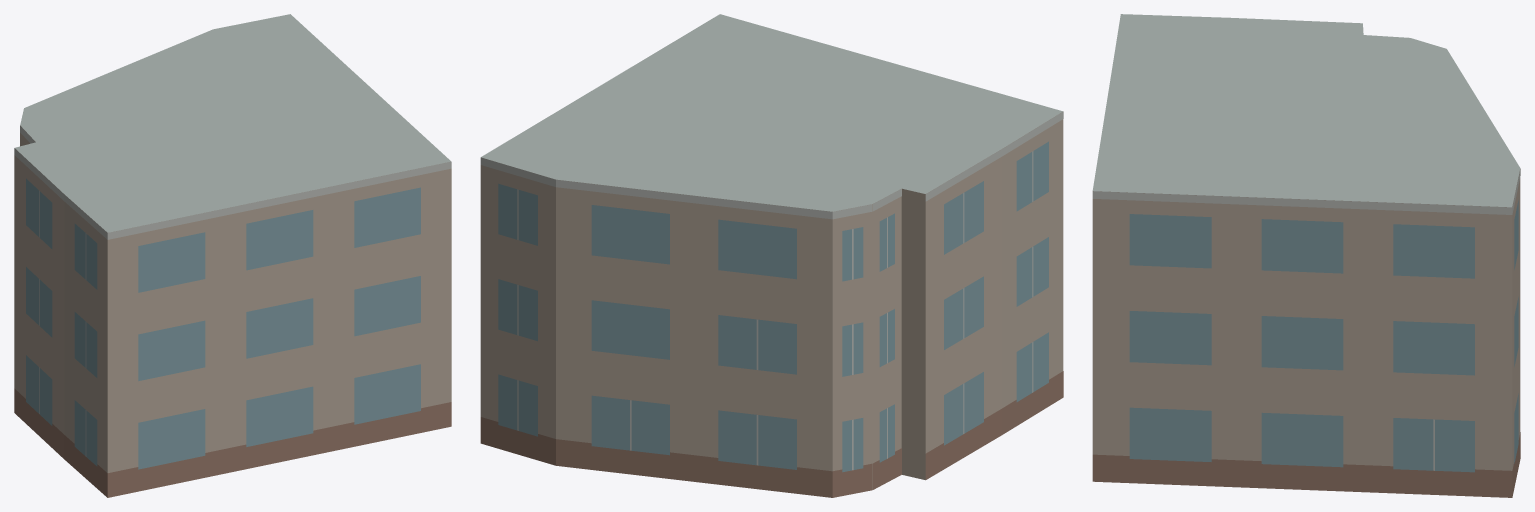
The model's file is survey-upis-32651896.glb.
The picture shows the model from 3 angles, left to right: view 1: azimuth 30°, elevation 25°; view 2: azimuth 150°, elevation 25°; view 3: azimuth 270°, elevation 25°; orthographic projection. The views are drawn at different scales.
Visible parts, largest first — view 1: survey-upis-32651896.tmp; view 2: survey-upis-32651896.tmp; view 3: survey-upis-32651896.tmp.
Part boxes in pixels (x1,y1,x2,y2): survey-upis-32651896.tmp: (14, 14, 451, 497); survey-upis-32651896.tmp: (480, 14, 1063, 497); survey-upis-32651896.tmp: (1092, 14, 1520, 497).
Size of the model in its own units: 13.07 by 9.15 by 12.22.
